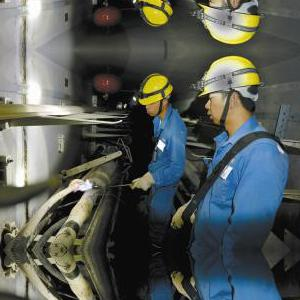helmet: (206, 53, 265, 127), (205, 1, 265, 50), (137, 74, 173, 119), (136, 1, 173, 29)
